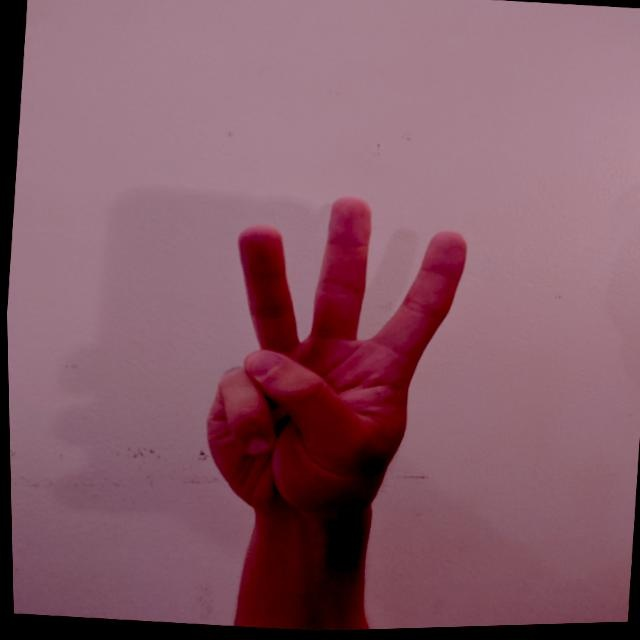W: (187, 177, 483, 535)
